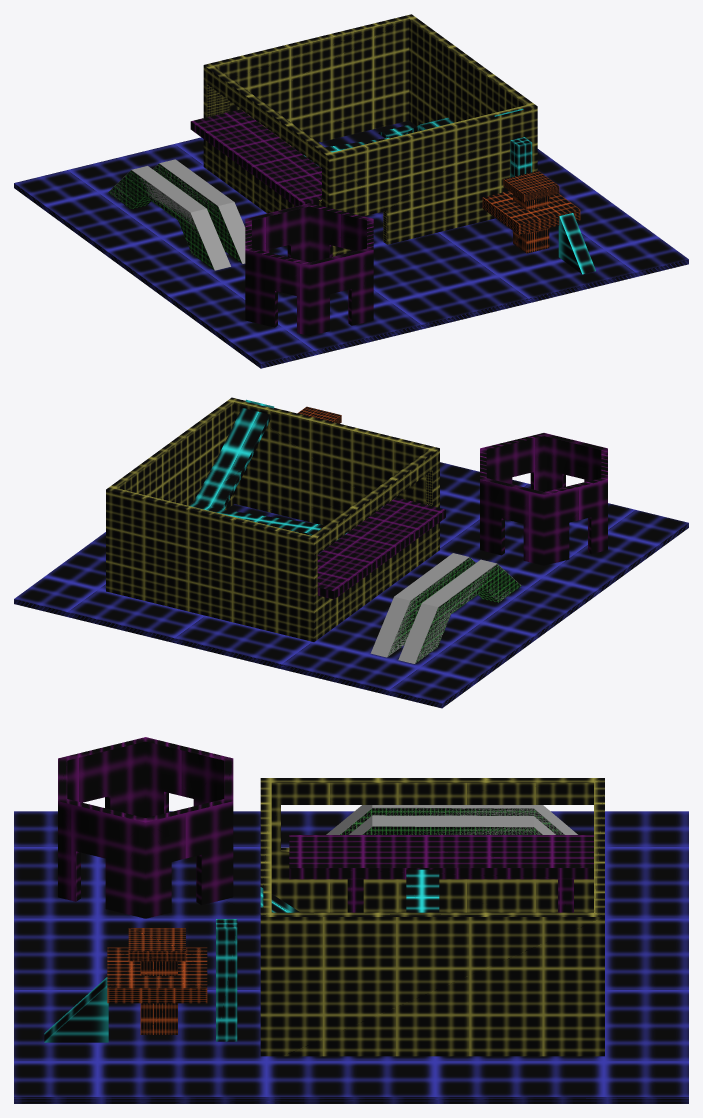
Rendered from SampleStage1CollideInside.FBX.
3 renders of one model, top to bottom at view 1: azimuth 30°, elevation 25°; view 2: azimuth 150°, elevation 25°; view 3: azimuth 270°, elevation 25°, orthographic. The views are drawn at different scales.
Parts seen in each view (by area): view 1: floor, Fortress, HexaWall, Ledge, RangeStump, LeftGRampCollide, LeftGRamp, RightGrampCollide, TinyRamp, RightGramp, Staircase, TallHop; view 2: Fortress, floor, HexaWall, Ledge, Staircase, LeftGRampCollide, RightGrampCollide, LeftGRamp, RightGramp; view 3: floor, Fortress, HexaWall, Ledge, RangeStump, RightGrampCollide, TallHop, TinyRamp, LeftGRampCollide, Staircase, LeftGRamp, RightGramp.
Boxes of the visible parts, x1,y1,x2,y2 form: floor: [14, 120, 688, 368]; Fortress: [203, 14, 537, 256]; HexaWall: [245, 203, 373, 335]; Ledge: [190, 109, 321, 206]; RangeStump: [482, 171, 580, 253]; LeftGRampCollide: [108, 166, 230, 270]; LeftGRamp: [108, 170, 214, 270]; RightGrampCollide: [153, 159, 245, 263]; TinyRamp: [558, 213, 595, 274]; RightGramp: [153, 163, 242, 263]; Staircase: [298, 108, 523, 166]; TallHop: [510, 137, 532, 177]; Fortress: [106, 397, 439, 641]; floor: [14, 462, 688, 708]; HexaWall: [480, 433, 607, 565]; Ledge: [317, 497, 445, 599]; Staircase: [189, 399, 351, 544]; LeftGRampCollide: [398, 559, 521, 663]; RightGrampCollide: [370, 553, 475, 657]; LeftGRamp: [414, 564, 521, 664]; RightGramp: [388, 557, 475, 655]; floor: [14, 811, 688, 1103]; Fortress: [260, 778, 604, 1056]; HexaWall: [58, 737, 233, 918]; Ledge: [289, 835, 593, 912]; RangeStump: [107, 928, 207, 1034]; RightGrampCollide: [349, 815, 555, 834]; TallHop: [216, 919, 237, 1041]; TinyRamp: [44, 977, 108, 1042]; LeftGRampCollide: [326, 805, 577, 834]; Staircase: [260, 869, 439, 912]; LeftGRamp: [340, 808, 564, 834]; RightGramp: [362, 826, 542, 834].
Size of what is drawn, in the model's own units: 426 by 105 by 425.
Materials: 7 (6 with a texture image).
